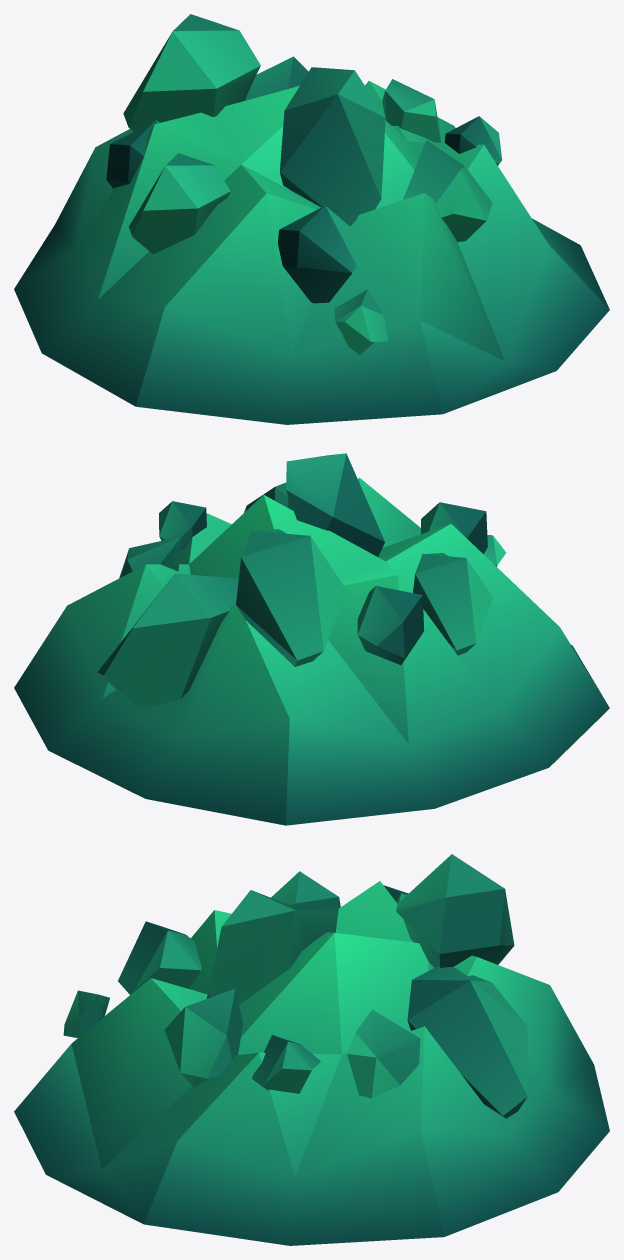
Rendered from mineral_ore_jade.glb.
The picture shows the model from 3 angles, top to bottom: view 1: azimuth 30°, elevation 25°; view 2: azimuth 150°, elevation 25°; view 3: azimuth 270°, elevation 25°; orthographic projection. The views are drawn at different scales.
Parts seen in each view (by area): view 1: mineral_ore_jade; view 2: mineral_ore_jade; view 3: mineral_ore_jade.
Boxes of the visible parts, x1=… form: mineral_ore_jade: x1=14, y1=14, x2=609, y2=424; mineral_ore_jade: x1=14, y1=453, x2=609, y2=825; mineral_ore_jade: x1=14, y1=854, x2=609, y2=1245.
Bounding box in the file's own units: 1.44 × 0.6408 × 1.45.
1 material, 1 textured.
